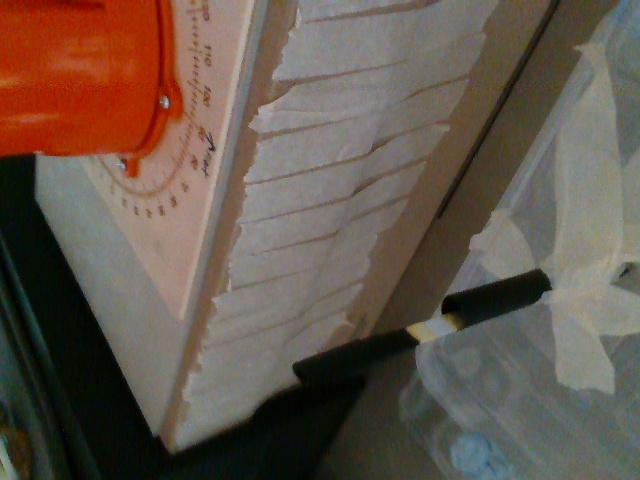test_strip: (290, 311, 458, 390)
